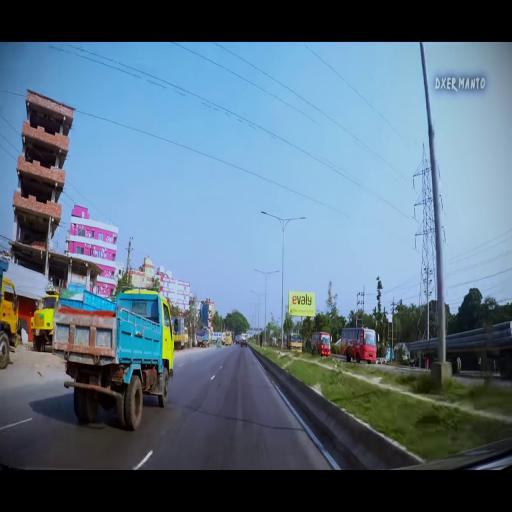bus: (341, 328, 377, 363), (311, 332, 331, 356), (225, 331, 232, 345)
pickup: (53, 285, 175, 431)
three wheelers (CNG): (217, 337, 222, 348)
truck: (196, 329, 211, 347), (241, 333, 249, 347)
